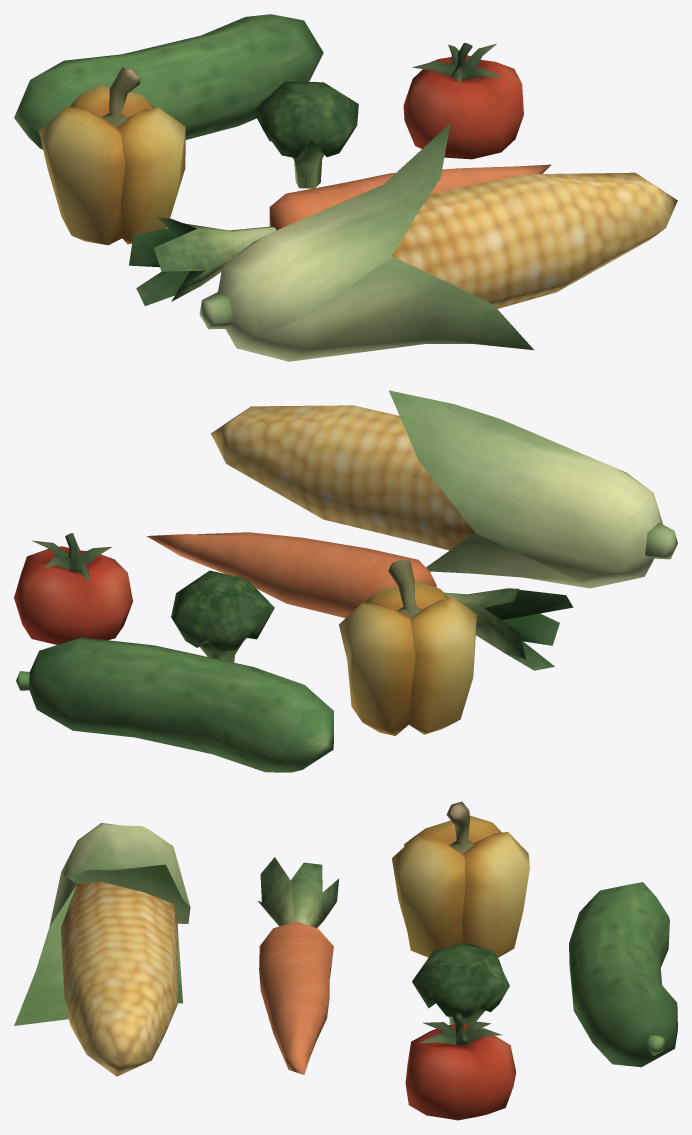
The model's file is vegetables.glb.
3 renders of one model, top to bottom at view 1: azimuth 30°, elevation 25°; view 2: azimuth 150°, elevation 25°; view 3: azimuth 270°, elevation 25°, orthographic. The views are drawn at different scales.
Visible parts, largest first — view 1: Corn, Cucumber, Pepper, Carrot, Tomato, Broccoli; view 2: Corn, Cucumber, Carrot, Pepper, Tomato, Broccoli; view 3: Corn, Cucumber, Pepper, Carrot, Tomato, Broccoli.
Part boxes in pixels (x1,y1,x2,y2): Corn: (199, 123, 677, 361); Cucumber: (14, 14, 323, 149); Pepper: (39, 67, 185, 245); Carrot: (129, 164, 551, 306); Tomato: (403, 43, 523, 159); Broccoli: (253, 81, 358, 188); Corn: (211, 390, 677, 588); Cucumber: (16, 637, 333, 772); Carrot: (146, 532, 573, 670); Pepper: (338, 559, 476, 735); Tomato: (14, 533, 132, 644); Broccoli: (171, 570, 274, 662); Corn: (14, 823, 190, 1076); Cucumber: (569, 882, 677, 1067); Pepper: (392, 801, 529, 957); Carrot: (258, 857, 339, 1074); Tomato: (405, 1013, 516, 1120); Broccoli: (412, 943, 509, 1025).
Bounding box in the file's own units: 0.4921 × 0.1741 × 0.6127.
1 material, 1 textured.
